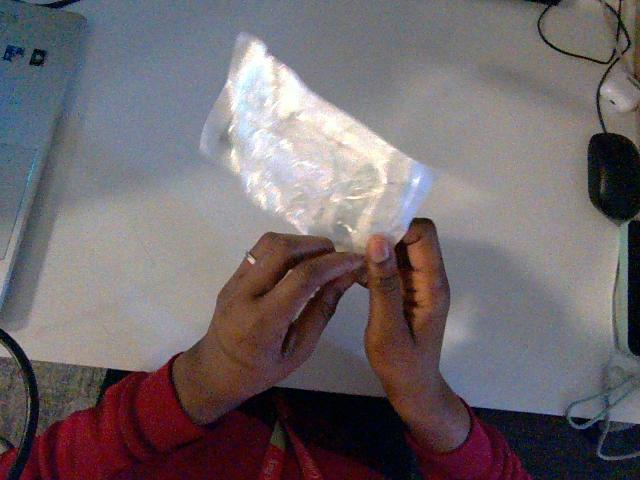gallipot: (200, 34, 433, 252)
